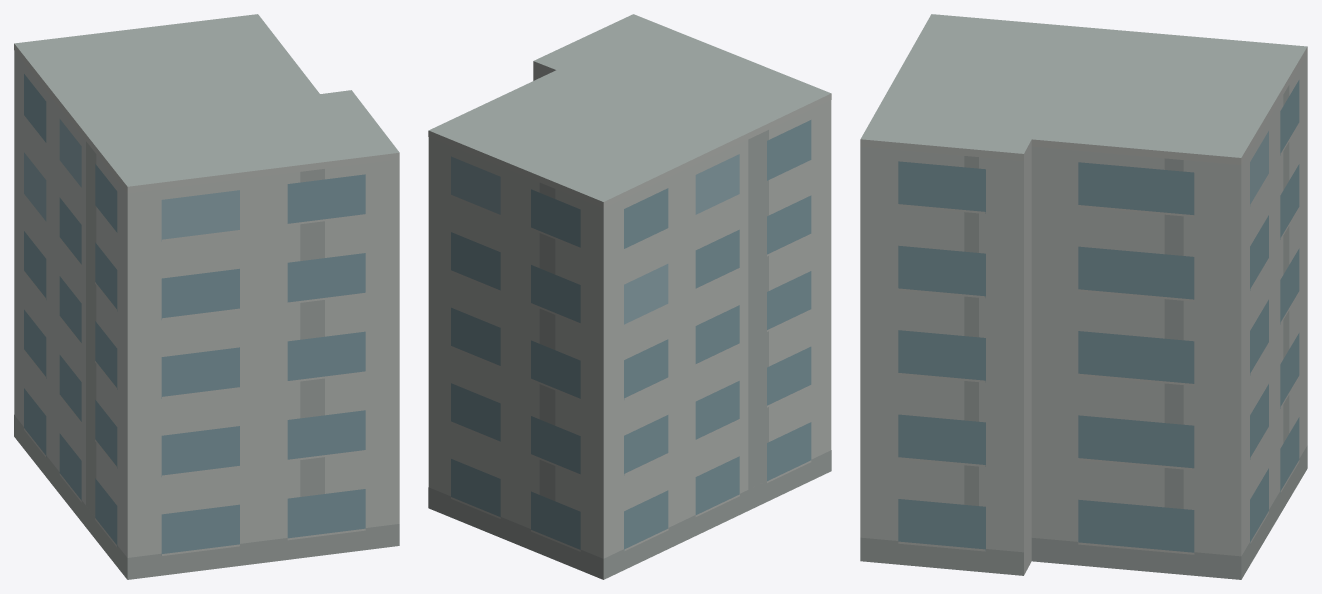
File: survey-upis-32807983.glb
The picture shows the model from 3 angles, left to right: view 1: azimuth 30°, elevation 25°; view 2: azimuth 150°, elevation 25°; view 3: azimuth 270°, elevation 25°; orthographic projection. The views are drawn at different scales.
Visible parts, largest first — view 1: survey-upis-32807983.tmp; view 2: survey-upis-32807983.tmp; view 3: survey-upis-32807983.tmp.
Part boxes in pixels (x1,y1,x2,y2): survey-upis-32807983.tmp: (14,14,399,579); survey-upis-32807983.tmp: (428,14,831,579); survey-upis-32807983.tmp: (860,14,1307,579).
Size of the model in its own units: 10.4 by 14.2 by 13.65.
